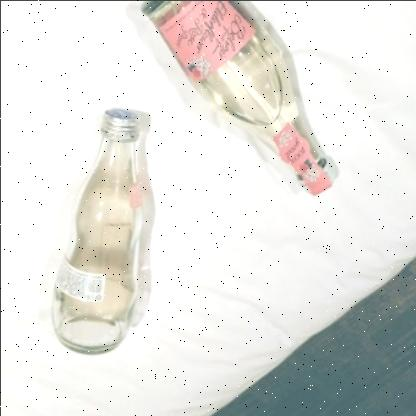Others: (135, 0, 347, 194), (48, 100, 162, 360)
